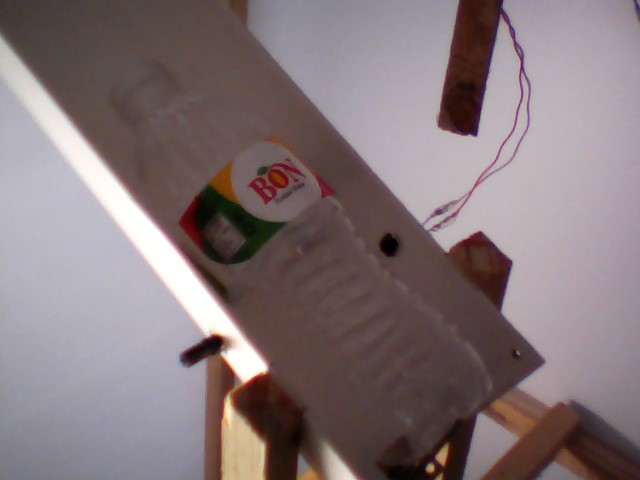plastico: (86, 44, 513, 469)
